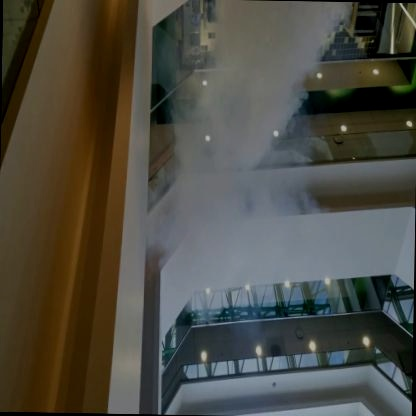smoke: (181, 75, 317, 288)
